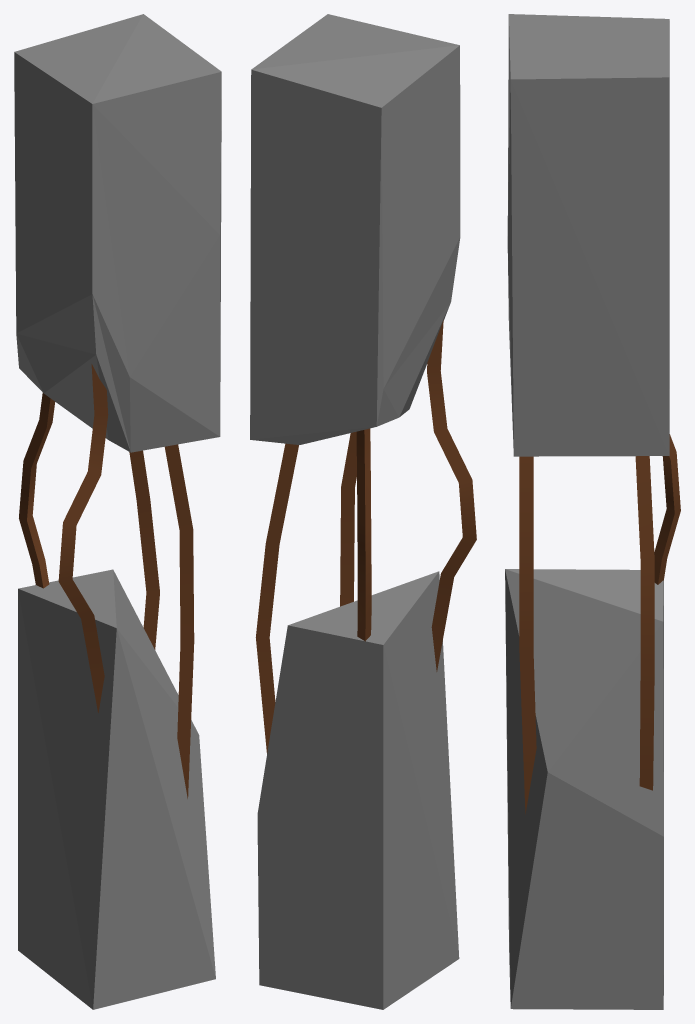
File: SM_pillar_broken_02.fbx
3 renders of one model, left to right at view 1: azimuth 30°, elevation 25°; view 2: azimuth 150°, elevation 25°; view 3: azimuth 270°, elevation 25°, orthographic. The views are drawn at different scales.
Visible parts, largest first — view 1: Object050; view 2: Object050; view 3: Object050.
Part boxes in pixels (<box>): Object050: <box>14,14,221,1009</box>; Object050: <box>250,14,476,1009</box>; Object050: <box>505,14,680,1009</box>.
Bounding box in the file's own units: 30.98 × 171 × 29.21.
